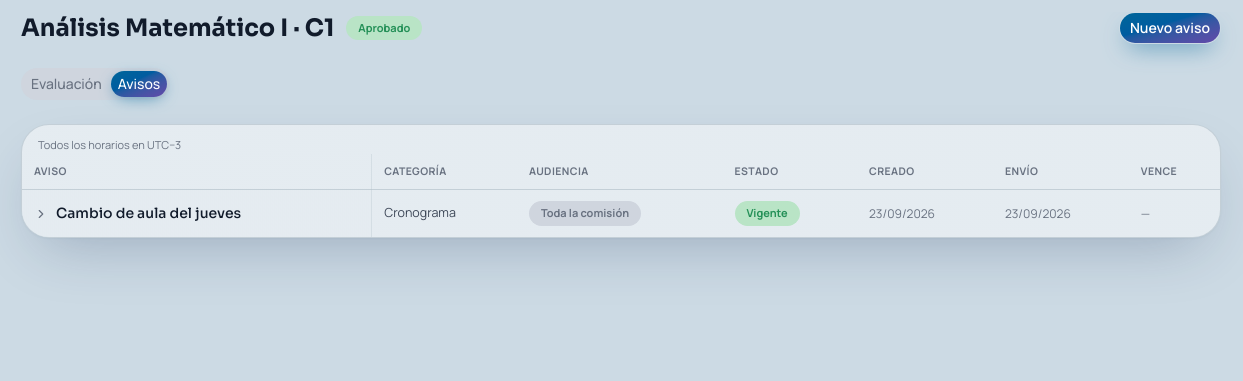
Test: DocenteComisionDetalle › tocar la fila despliega el mensaje del aviso
Click the text "Cambio de aula del jueves".
click(149, 214)  # box [56,204,241,223]
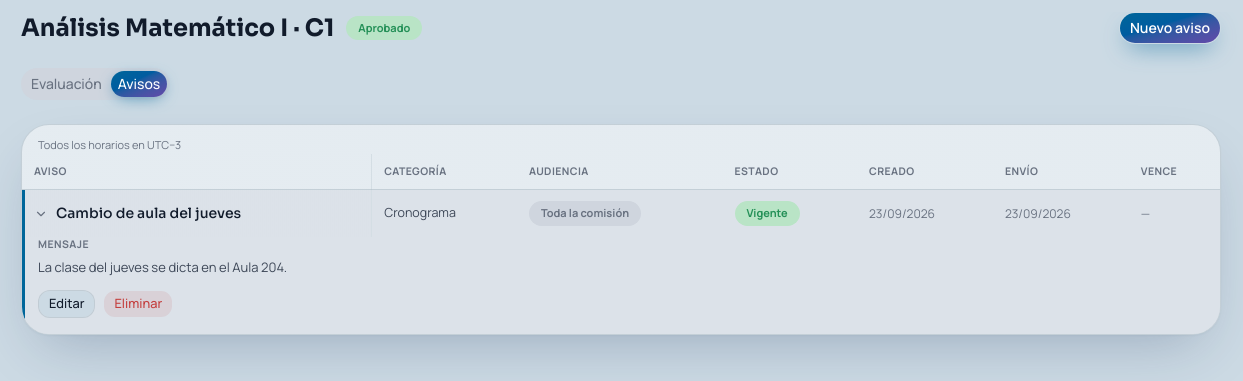
Expected: the text "Mensaje" is shown, [38,237,89,251]
Expected: the text "La clase del jueves se dicta en el Aula 204." is shown, [38,258,287,276]
